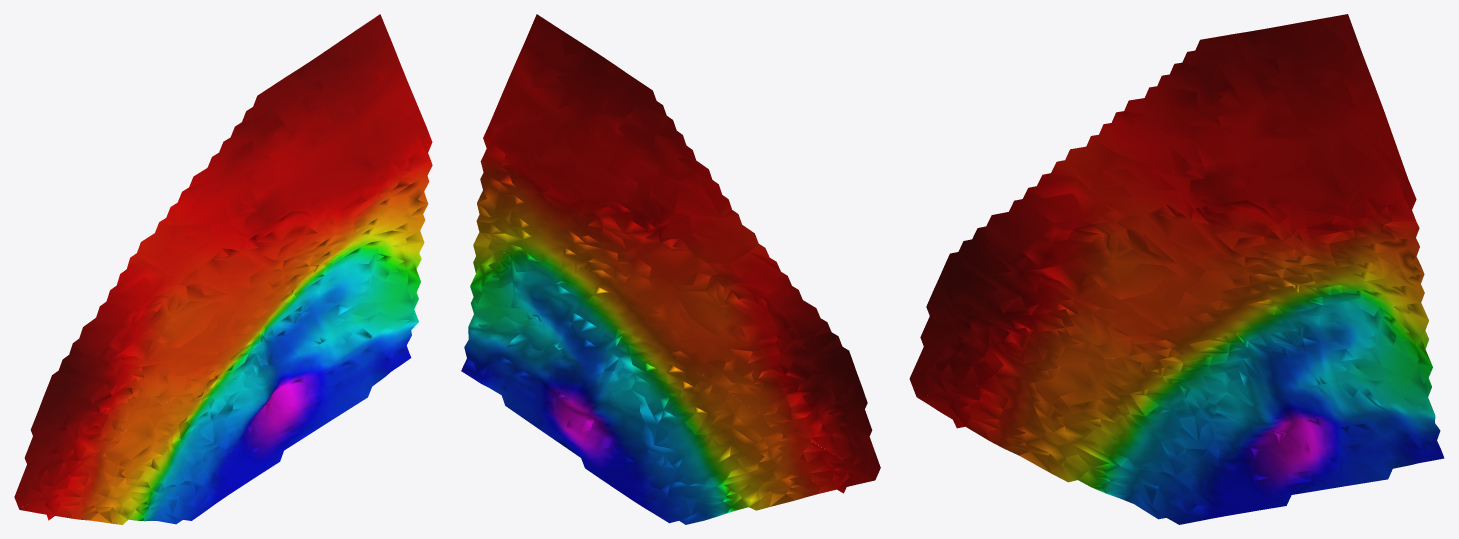
The model's file is Topo_Eoceno_cubo.glb.
3 views of the same model, side by side, from view 1: azimuth 30°, elevation 25°; view 2: azimuth 150°, elevation 25°; view 3: azimuth 330°, elevation 25° (orthographic). The views are drawn at different scales.
Visible parts, largest first — view 1: Surface; view 2: Surface; view 3: Surface.
Part boxes in pixels (<box>): Surface: <box>14,14,432,524</box>; Surface: <box>461,14,880,524</box>; Surface: <box>909,14,1444,524</box>.
Size of the model in its own units: 143060 by 156855 by 18819.
Materials: 1 (1 with a texture image).
